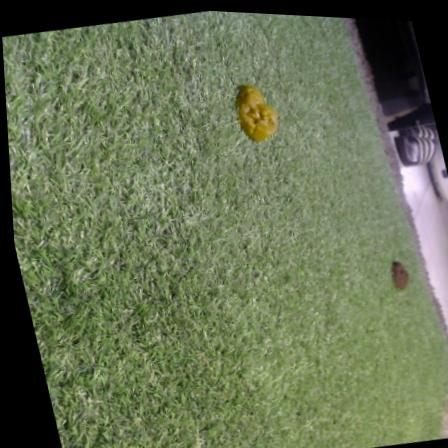dog-poop: (223, 71, 287, 145), (378, 245, 411, 290)
